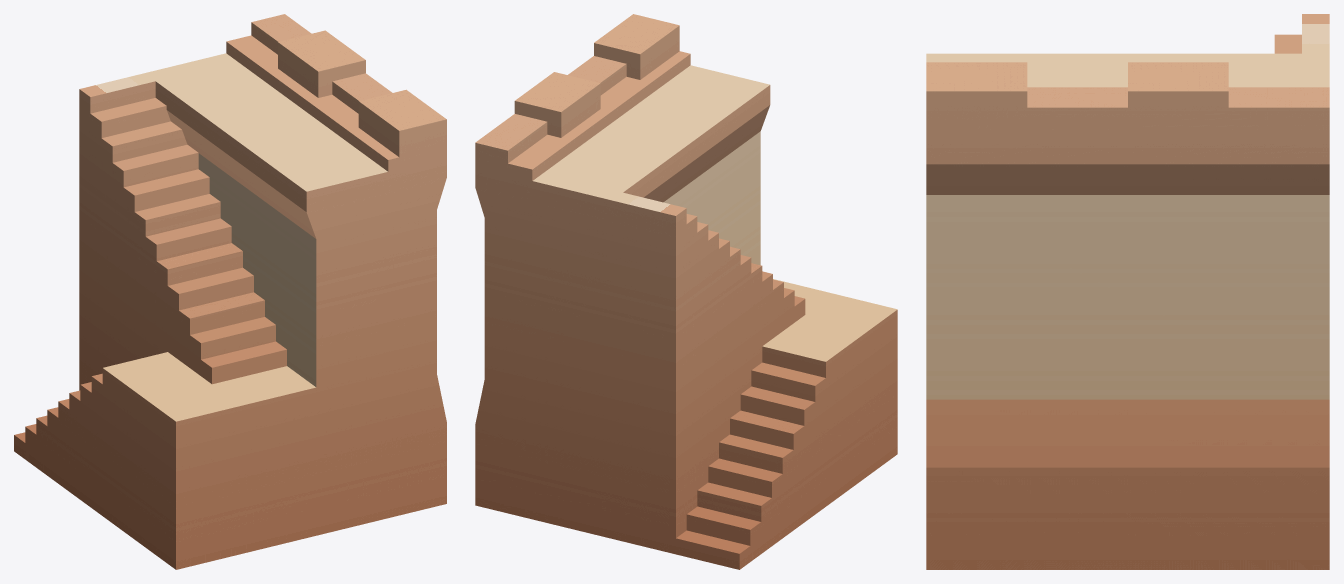
File: wall-narrow-stairs.glb
3 views of the same model, side by side, from view 1: azimuth 30°, elevation 25°; view 2: azimuth 150°, elevation 25°; view 3: azimuth 270°, elevation 25° (orthographic). The views are drawn at different scales.
Visible parts, largest first — view 1: wall-narrow-stairs; view 2: wall-narrow-stairs; view 3: wall-narrow-stairs.
Part boxes in pixels (x1,y1,x2,y2): wall-narrow-stairs: (14,14,446,569); wall-narrow-stairs: (475,14,897,569); wall-narrow-stairs: (926,14,1329,569).
Bounding box in the file's own units: 0.965 × 1.31 × 1.
Materials: 1 (1 with a texture image).
